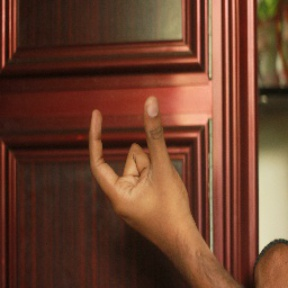U: (79, 90, 188, 225)
